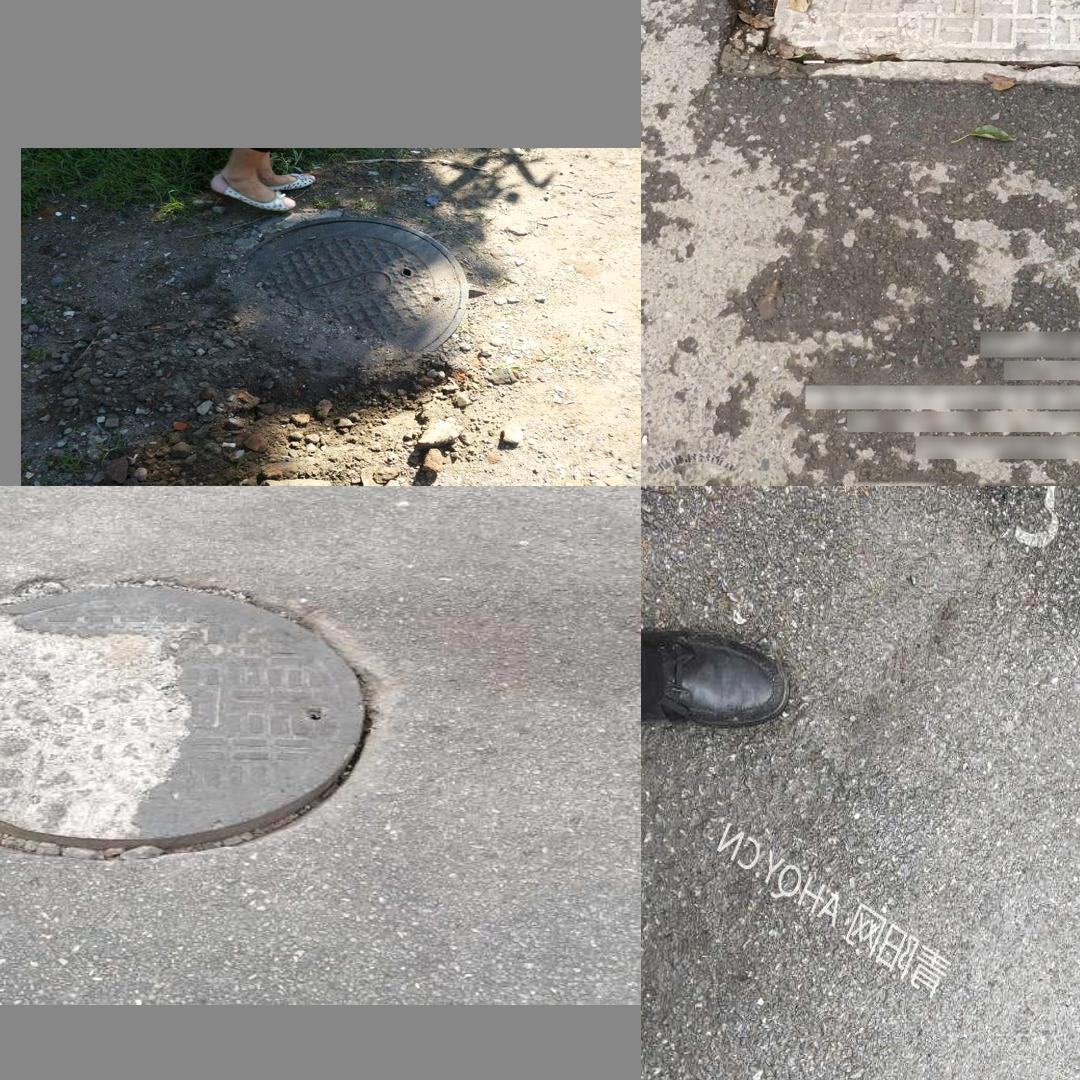circle: (0, 560, 395, 866), (172, 212, 529, 397), (714, 0, 1080, 87), (1070, 519, 1080, 1043)
